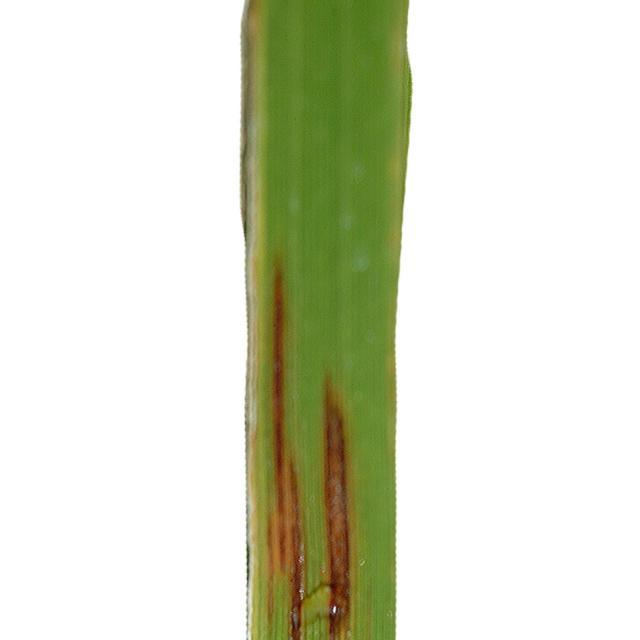Narrow brown: (176, 0, 430, 640)
